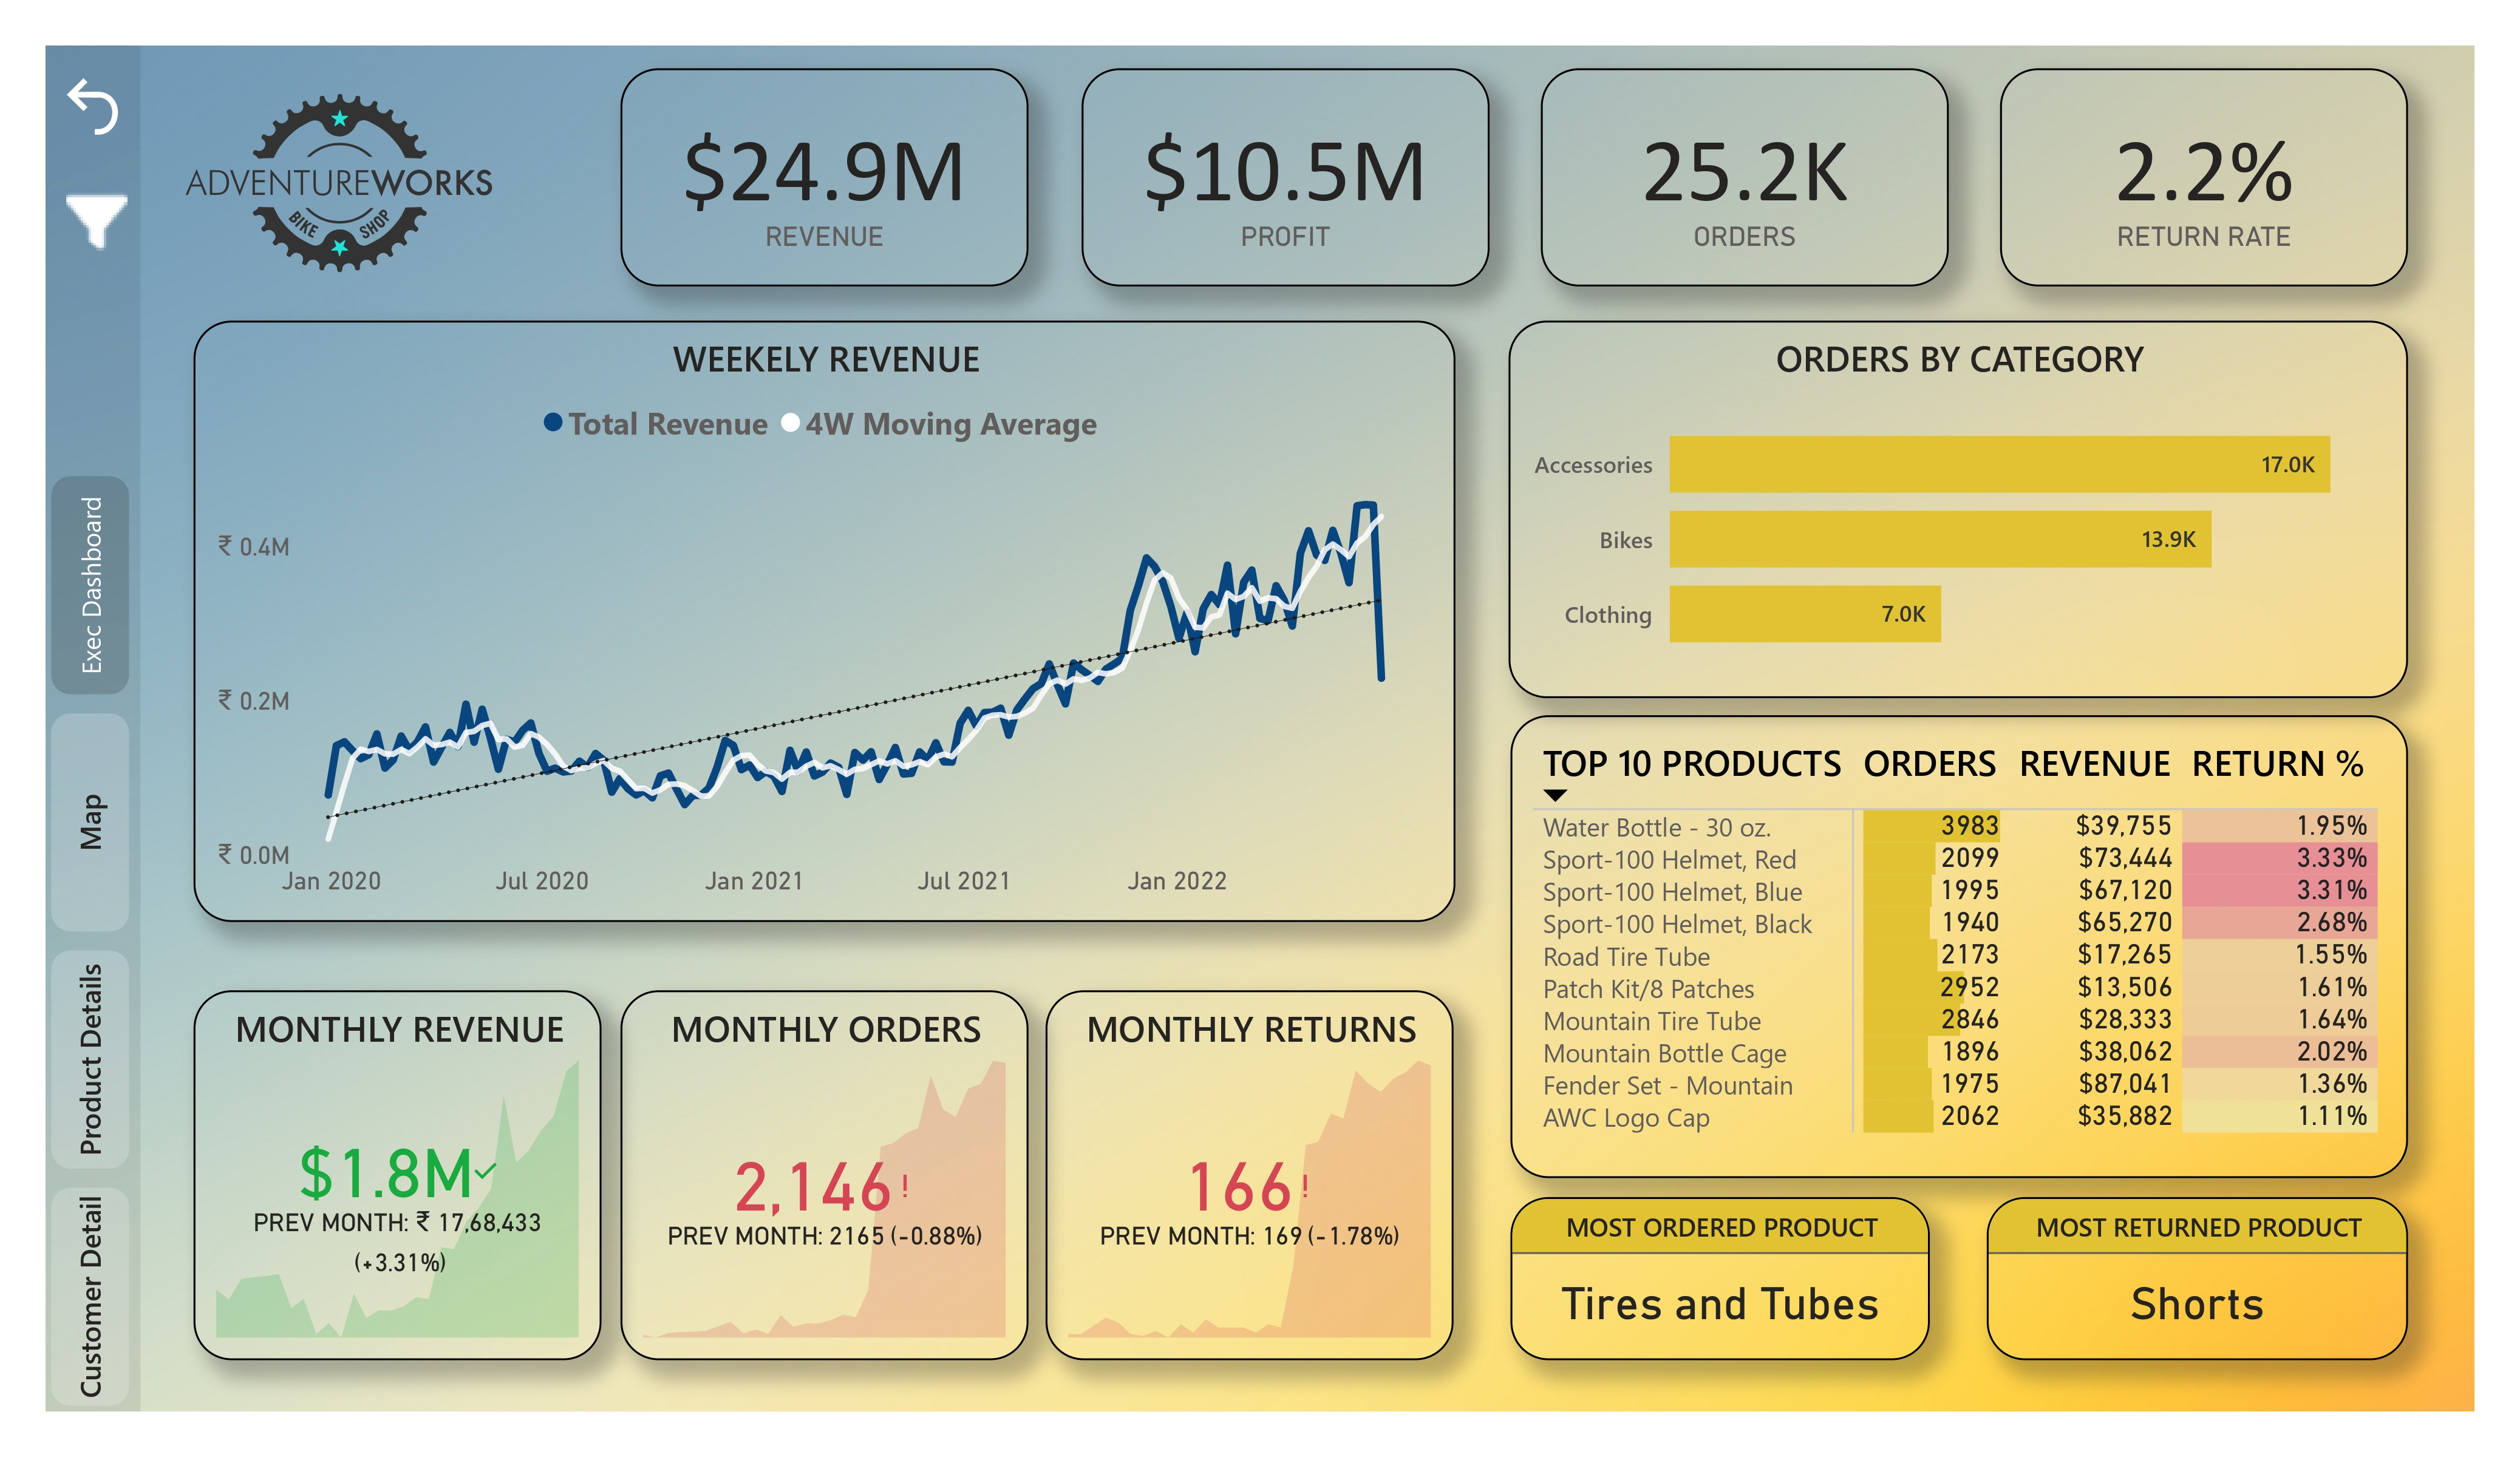

Layout of this report page (visuals, bound fields, positions):
{"tool":"powerbi","page":{"name":"Exec Dashboard","canvas":[1280,720],"ordinal":0},"visuals":[{"type":"image","title":"AW Logo","box":[28.3,18.3,253.3,108.3],"z":0},{"type":"card","fields":{"Values":["Measure Table.Total Revenue"]},"box":[303.3,11.7,215,115],"z":1000},{"type":"card","fields":{"Values":["Measure Table.Total Profit"]},"box":[545.6,11.7,215,115],"z":2000},{"type":"card","fields":{"Values":["Measure Table.Total Orders"]},"box":[787.8,11.7,215,115],"z":3000},{"type":"card","fields":{"Values":["Measure Table.Return Rate"]},"box":[1030,11.7,215,115],"z":4000},{"type":"lineChart","title":"WEEKELY REVENUE","fields":{"Y":["Measure Table.Total Revenue","Measure Table.4W Moving Average"],"Category":["Calendar Lookup.Start of Week"]},"box":[78.3,145,665,316.7],"z":5000},{"type":"kpi","title":"MONTHLY REVENUE","fields":{"Indicator":["Measure Table.Total Revenue"],"TrendLine":["Calendar Lookup.Date Hierarchy.Start of Month"],"Goal":["Measure Table.Previous Month Revenue"]},"box":[78.3,498.3,215,195],"z":6000},{"type":"kpi","title":"MONTHLY ORDERS","fields":{"TrendLine":["Calendar Lookup.Date Hierarchy.Start of Month"],"Goal":["Measure Table.Previous Month Orders"],"Indicator":["Measure Table.Total Orders"]},"box":[303.3,498.3,215,195],"z":7000},{"type":"kpi","title":"MONTHLY RETURNS","fields":{"TrendLine":["Calendar Lookup.Date Hierarchy.Start of Month"],"Indicator":["Measure Table.Total Returns"],"Goal":["Measure Table.Previous Month Returns"]},"box":[526.7,498.3,215,195],"z":8000},{"type":"clusteredBarChart","title":"ORDERS BY CATEGORY","fields":{"Category":["Product Categories Lookup.CategoryName"],"Y":["Measure Table.Total Orders"]},"box":[771.2,145,473.8,198.8],"z":9000},{"type":"pivotTable","fields":{"Rows":["Product Lookup.ProductName"],"Values":["Measure Table.Total Orders","Measure Table.Total Revenue","Measure Table.Return Rate"]},"box":[771.7,353.3,473.3,243.3],"z":10000},{"type":"card","title":"MOST ORDERED PRODUCT","fields":{"Values":["Min(Product Subcategories Lookup.SubcategoryName)"]},"box":[771.7,606.7,221.7,86.7],"z":11000},{"type":"card","title":"MOST RETURNED PRODUCT","fields":{"Values":["Min(Product Subcategories Lookup.SubcategoryName)"]},"box":[1023.3,606.7,221.7,86.7],"z":12000},{"type":"shape","box":[0,0,50,720],"z":13000},{"type":"actionButton","box":[0,11.7,50,40],"z":14000},{"type":"pageNavigator","box":[3.3,226.7,41.7,493.3],"z":15000},{"type":"actionButton","box":[3.3,73.3,46.7,40],"z":16000}]}

Visuals, with their boxes on the page's 1280x720 design canvas (x1, y1, x2, y2). These are canvas units, not pixel positions in the 2520x1457 screenshot, which may show the page scaled, cropped or inside an application window:
"AW Logo" image: 28,18,282,127
card - Measure Table.Total Revenue: 303,12,518,127
card - Measure Table.Total Profit: 546,12,761,127
card - Measure Table.Total Orders: 788,12,1003,127
card - Measure Table.Return Rate: 1030,12,1245,127
"WEEKELY REVENUE" lineChart: 78,145,743,462
"MONTHLY REVENUE" kpi: 78,498,293,693
"MONTHLY ORDERS" kpi: 303,498,518,693
"MONTHLY RETURNS" kpi: 527,498,742,693
"ORDERS BY CATEGORY" clusteredBarChart: 771,145,1245,344
pivotTable - Product Lookup.ProductName x Measure Table.Total Orders: 772,353,1245,597
"MOST ORDERED PRODUCT" card: 772,607,993,693
"MOST RETURNED PRODUCT" card: 1023,607,1245,693
shape: 0,0,50,720
actionButton: 0,12,50,52
pageNavigator: 3,227,45,720
actionButton: 3,73,50,113
